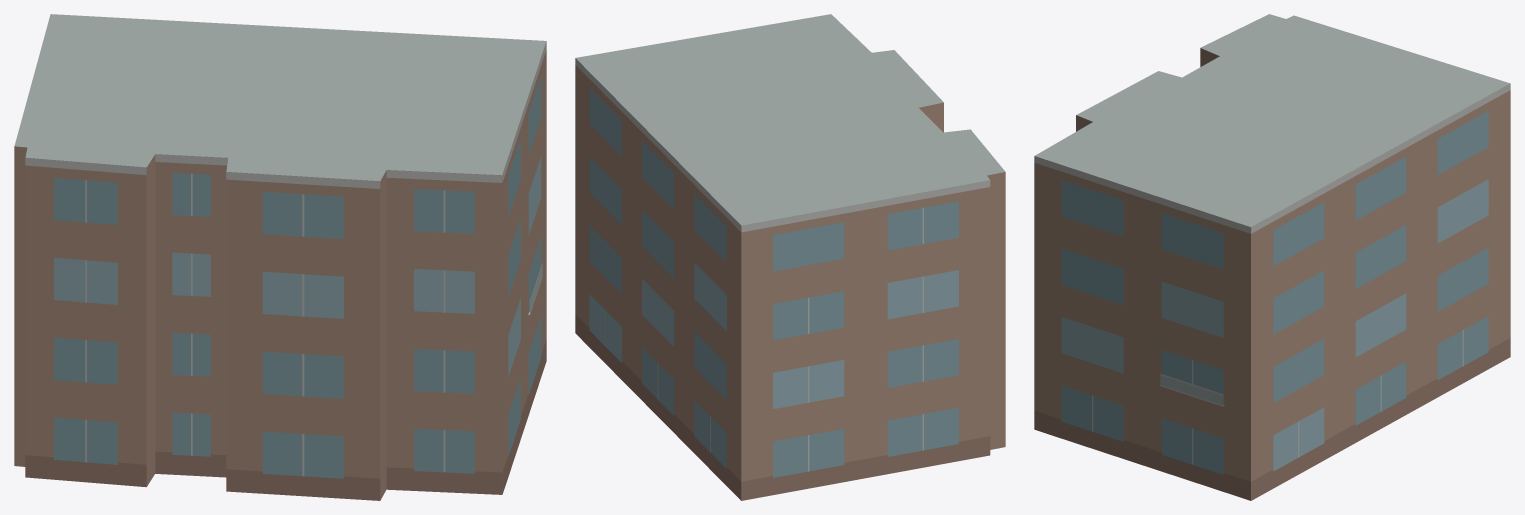
The model's file is survey-upis-32845784.glb.
The picture shows the model from 3 angles, left to right: view 1: azimuth 30°, elevation 25°; view 2: azimuth 150°, elevation 25°; view 3: azimuth 270°, elevation 25°; orthographic projection. The views are drawn at different scales.
Visible parts, largest first — view 1: survey-upis-32845784.tmp; view 2: survey-upis-32845784.tmp; view 3: survey-upis-32845784.tmp.
Boxes of the visible parts, bbox=[...] form: survey-upis-32845784.tmp: bbox=[14, 14, 546, 500]; survey-upis-32845784.tmp: bbox=[575, 14, 1005, 500]; survey-upis-32845784.tmp: bbox=[1034, 14, 1510, 500].
Bounding box in the file's own units: 16.72 × 10 × 15.78.
